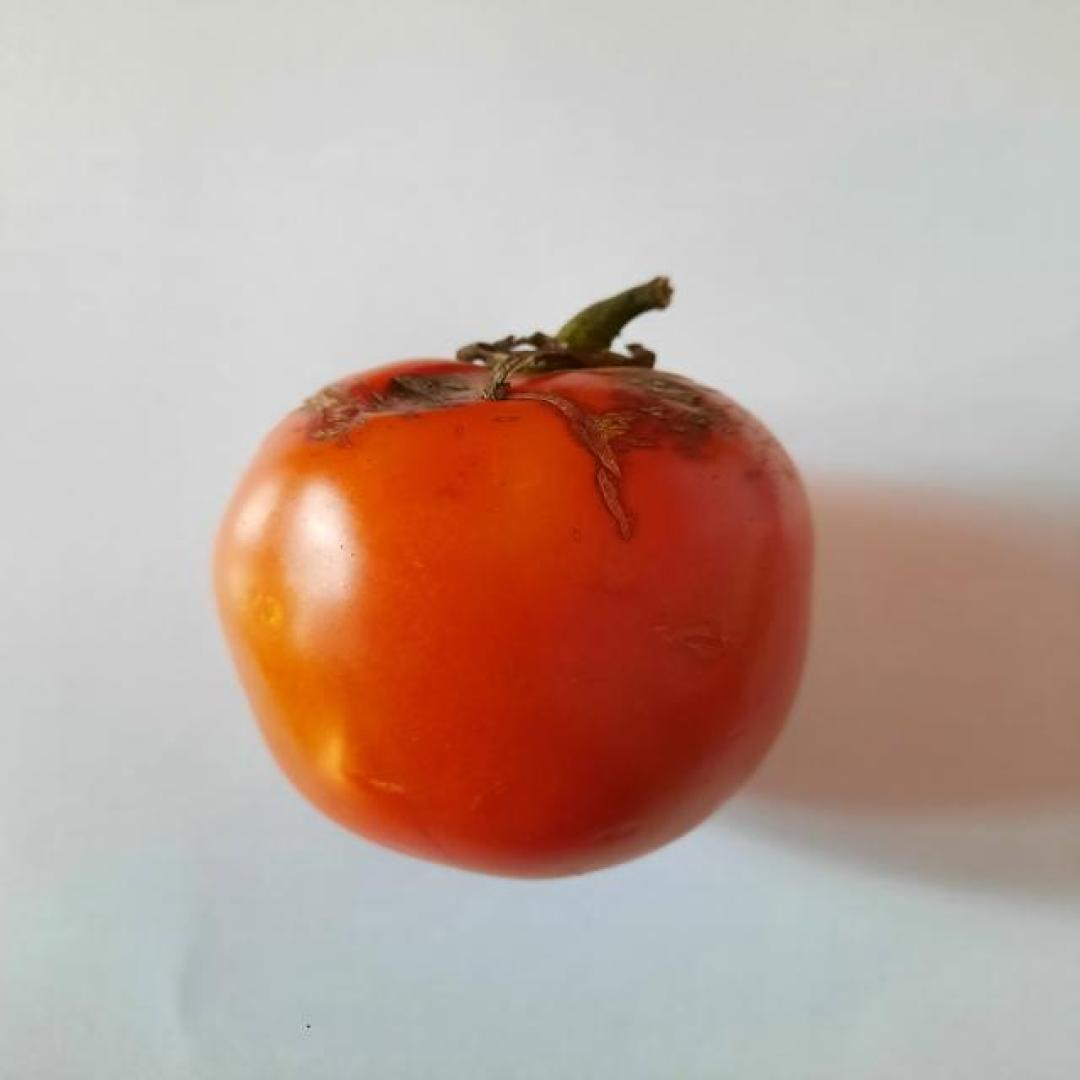matang: (206, 270, 823, 886)
